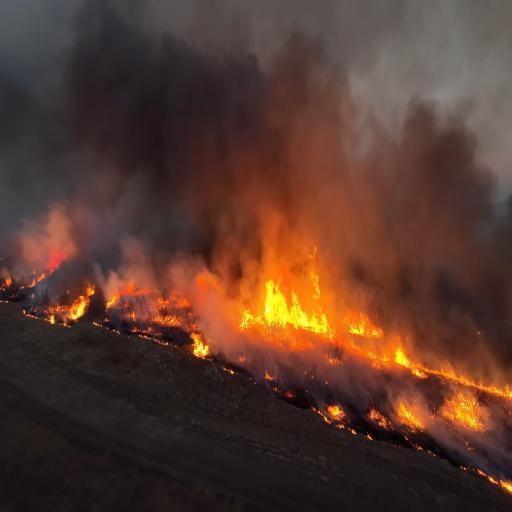fire: (263, 270, 331, 337), (448, 386, 480, 434)
smoke: (65, 4, 251, 261), (243, 9, 427, 242), (356, 40, 507, 300)
